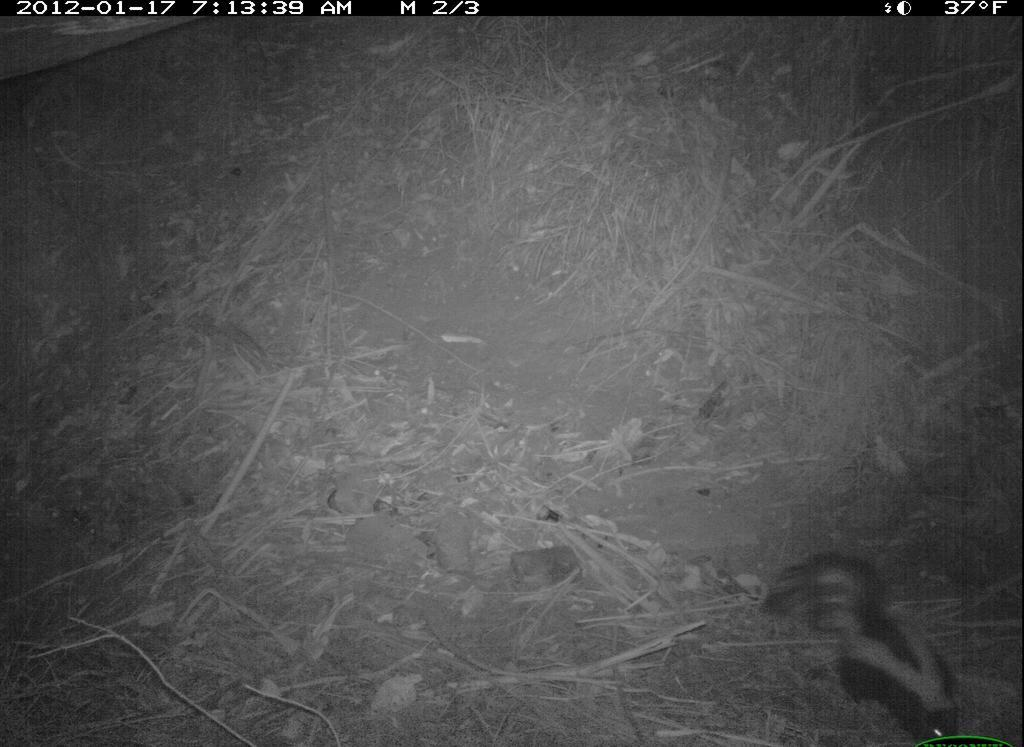skunk: (762, 545, 968, 745)
